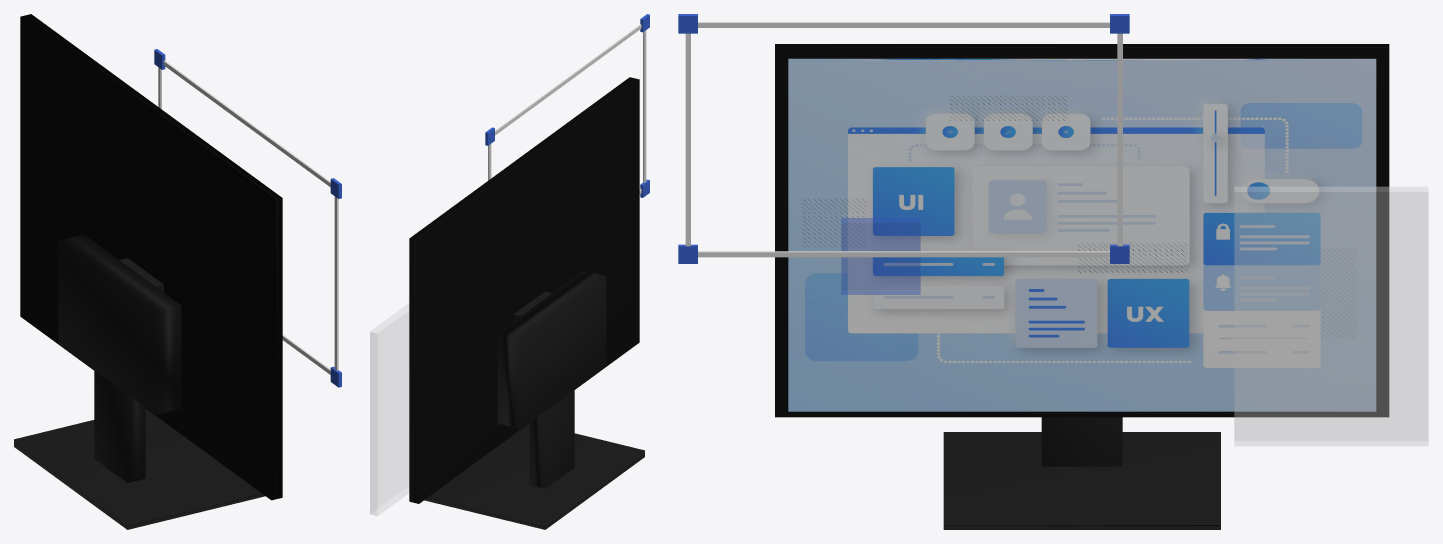
File: pc-ui-ux-designer-glass.glb
The picture shows the model from 3 angles, left to right: view 1: azimuth 30°, elevation 25°; view 2: azimuth 150°, elevation 25°; view 3: azimuth 270°, elevation 25°; orthographic projection. The views are drawn at different scales.
Visible parts, largest first — view 1: Cube, Cube.001, computadora-ux-ui, Cube.002, lineas, cuadros azules; view 2: Cube, Cube.001, computadora-ux-ui, Cube.003, Cube.002, lineas, cuadros azules; view 3: Cube.005, Cube.003, computadora-ux-ui, Cube, lineas, Cube.006, Cube.002, cuadros azules.
Part boxes in pixels (left/top/right/bottom): Cube: left=20, top=14, right=282, bottom=500; Cube.001: left=58, top=234, right=181, bottom=414; computadora-ux-ui: left=14, top=408, right=265, bottom=529; Cube.002: left=94, top=370, right=145, bottom=482; lineas: left=158, top=60, right=338, bottom=374; cuadros azules: left=154, top=49, right=341, bottom=387; Cube: left=409, top=77, right=639, bottom=503; Cube.001: left=497, top=270, right=606, bottom=428; computadora-ux-ui: left=424, top=423, right=644, bottom=529; Cube.003: left=370, top=303, right=408, bottom=515; Cube.002: left=529, top=390, right=574, bottom=488; lineas: left=488, top=24, right=646, bottom=193; cuadros azules: left=485, top=14, right=649, bottom=197; Cube.005: left=788, top=58, right=1376, bottom=411; Cube.003: left=1234, top=187, right=1428, bottom=445; computadora-ux-ui: left=943, top=432, right=1220, bottom=529; Cube: left=775, top=44, right=1389, bottom=417; lineas: left=685, top=22, right=1122, bottom=257; Cube.006: left=841, top=218, right=920, bottom=294; Cube.002: left=1041, top=417, right=1122, bottom=466; cuadros azules: left=678, top=14, right=1129, bottom=263.
Bounding box in the file's own units: 2.46 × 6.32 × 8.8.
6 materials, 1 textured.
